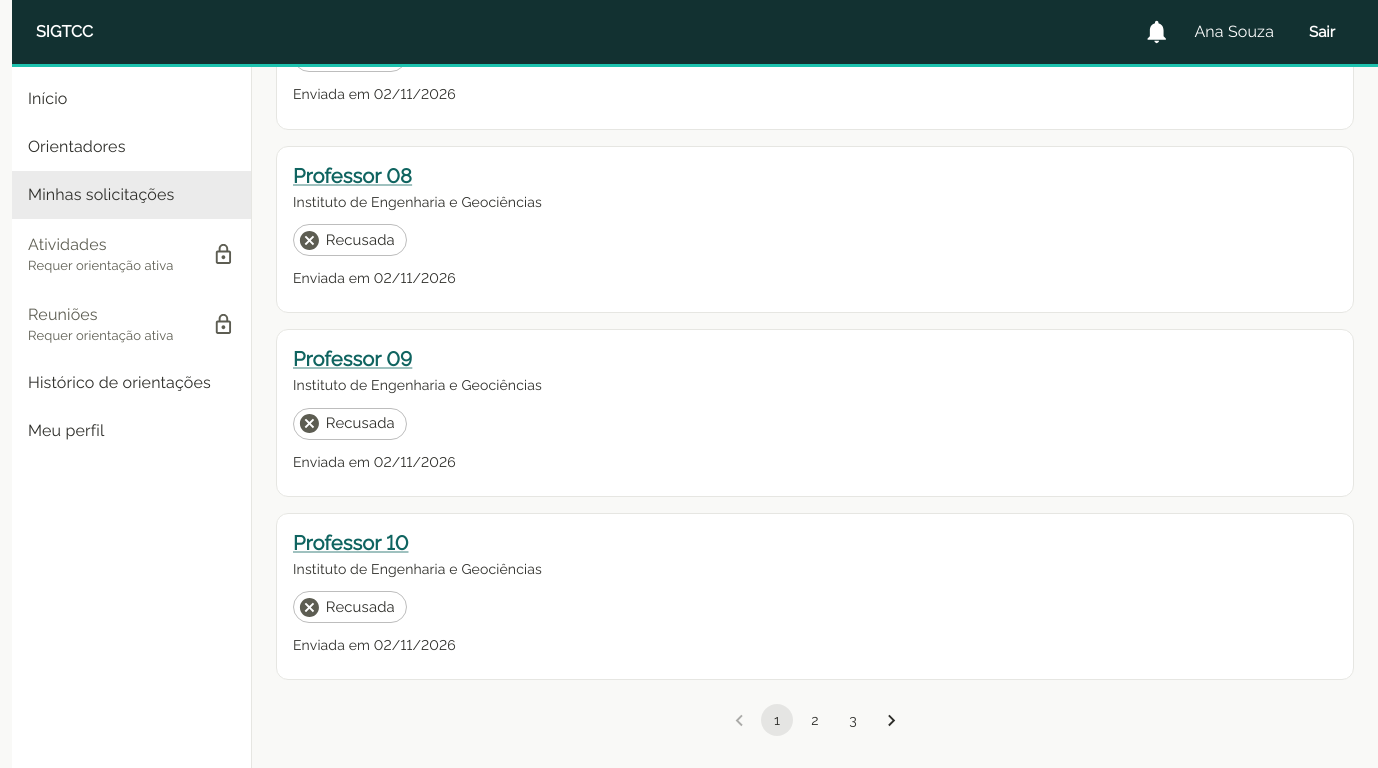
it: StudentRequestPage: busca e paginação (RNF26, RNF30) › mostra 10 por página e a paginação das outras listas, sem "Exibindo"
The width and height of the screenshot is (1378, 768).
(page scrolled)
Click the button named "Ir para a página 3".
click(853, 720)  # box [837, 704, 869, 736]
(page scrolled)
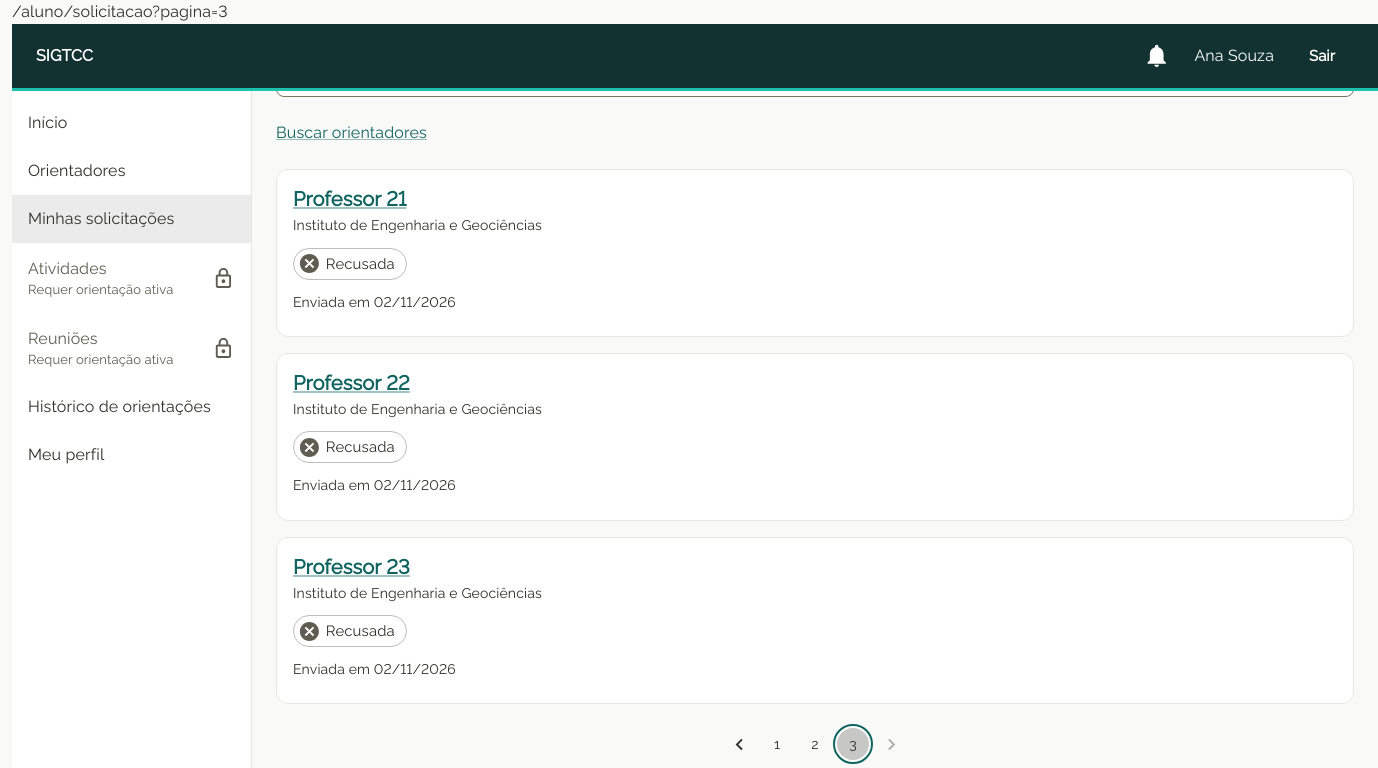
Expected: the text with test id "location" shows "pagina=3", [12, 2, 228, 21]
